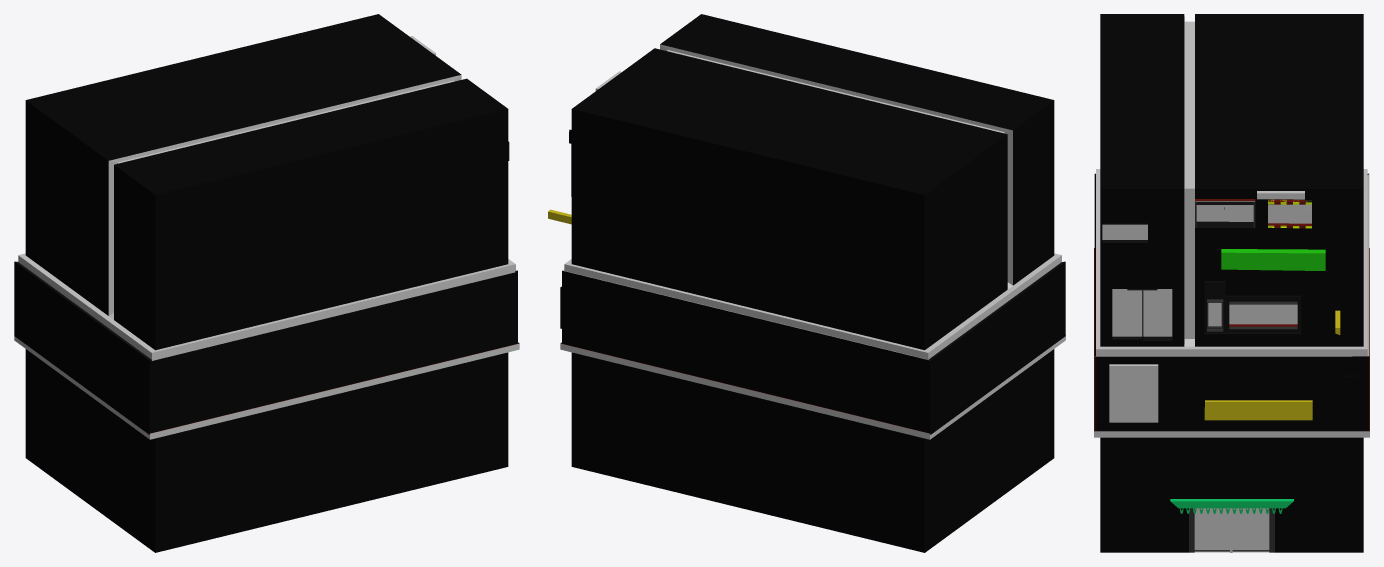
The model's file is Restaurant.fbx.
3 views of the same model, side by side, from view 1: azimuth 30°, elevation 25°; view 2: azimuth 150°, elevation 25°; view 3: azimuth 270°, elevation 25° (orthographic).
Parts seen in each view (by area): view 1: Black, White; view 2: Black, White; view 3: Black, White, Glass, Dark Grey, Plain, Light Yellow, Green, Light Grey, Teal, Red.
Part boxes in pixels (box(x1,y1,x2,y2)): Black: box(14, 14, 517, 552); White: box(14, 75, 519, 439); Black: box(560, 14, 1065, 552); White: box(560, 44, 1065, 439); Black: box(1094, 14, 1369, 552); White: box(1094, 16, 1369, 552); Glass: box(1102, 204, 1311, 549); Dark Grey: box(1094, 173, 1369, 431); Plain: box(1109, 191, 1304, 422); Light Yellow: box(1204, 310, 1340, 420); Green: box(1221, 249, 1325, 270); Light Grey: box(1189, 201, 1297, 552); Teal: box(1170, 499, 1293, 513); Red: box(1094, 199, 1369, 510).
Size of the model in its own units: 2680 by 2308 by 1587.
